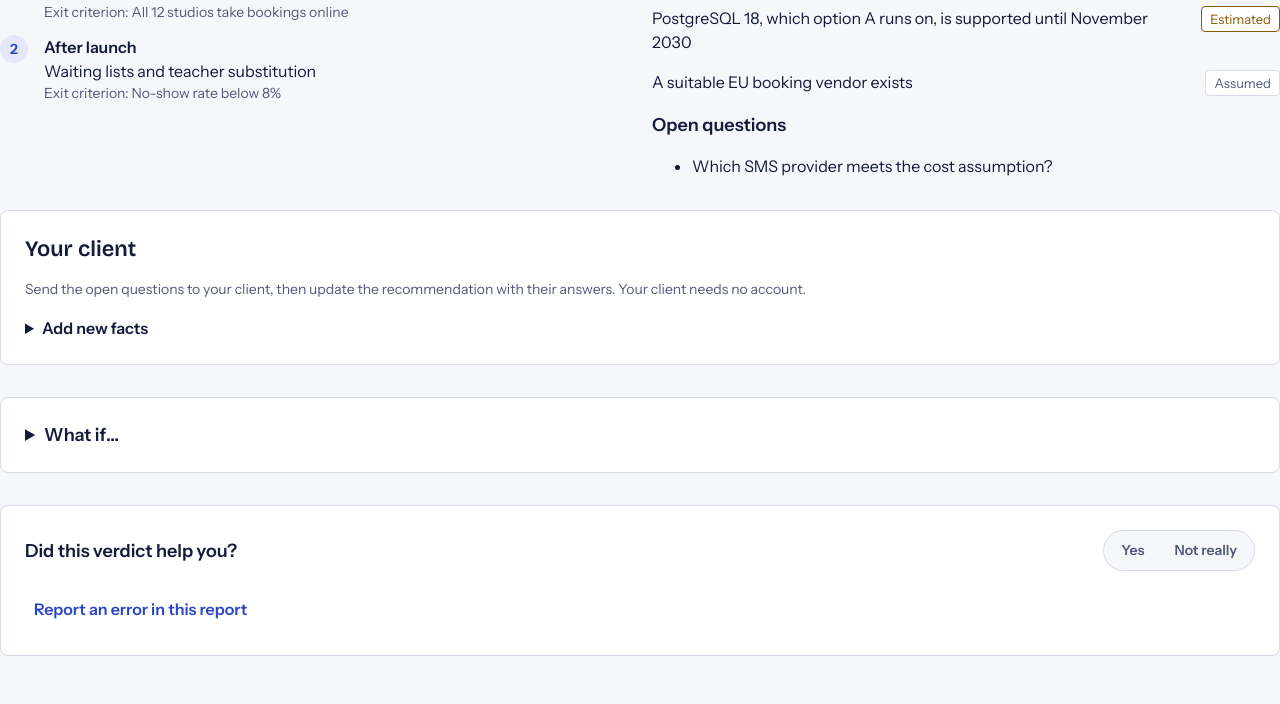
it: the feedback box › says why a rating could not be sent
(page scrolled)
Click the button "Yes".
click(1133, 551)  # box [1107, 534, 1158, 568]
(page scrolled)
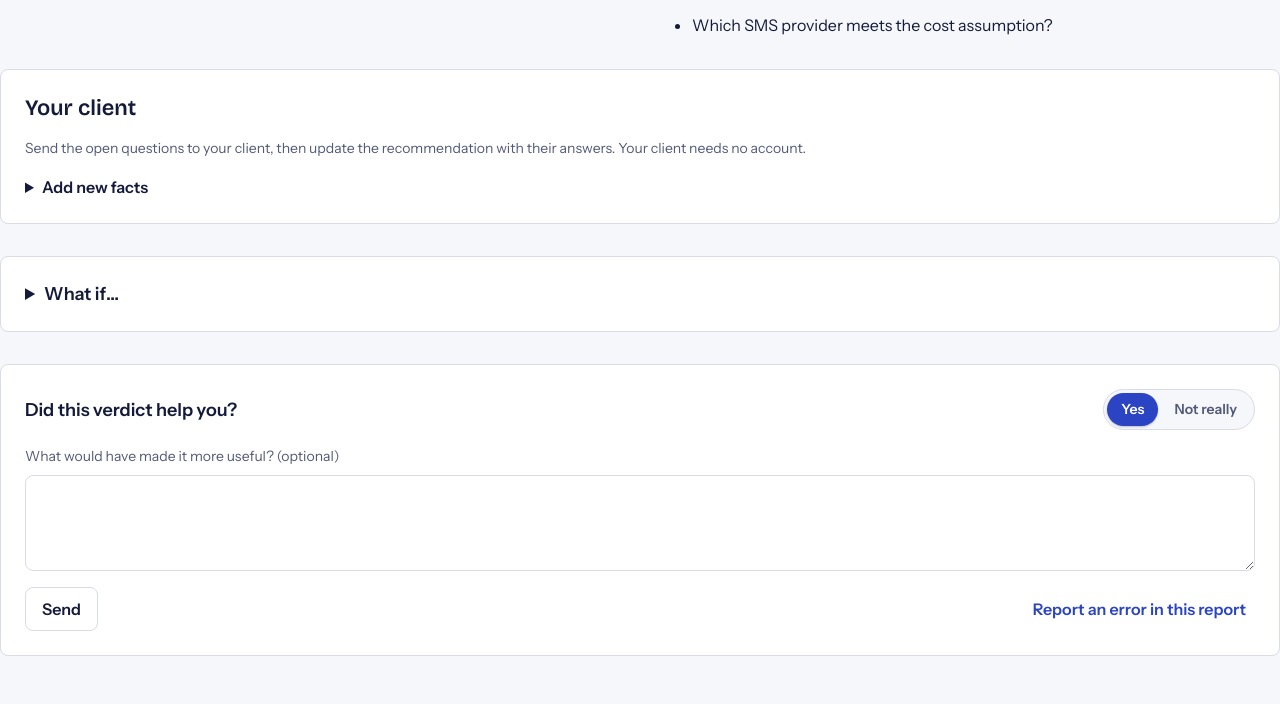
Click the button "Send".
click(62, 610)  # box [25, 588, 98, 632]
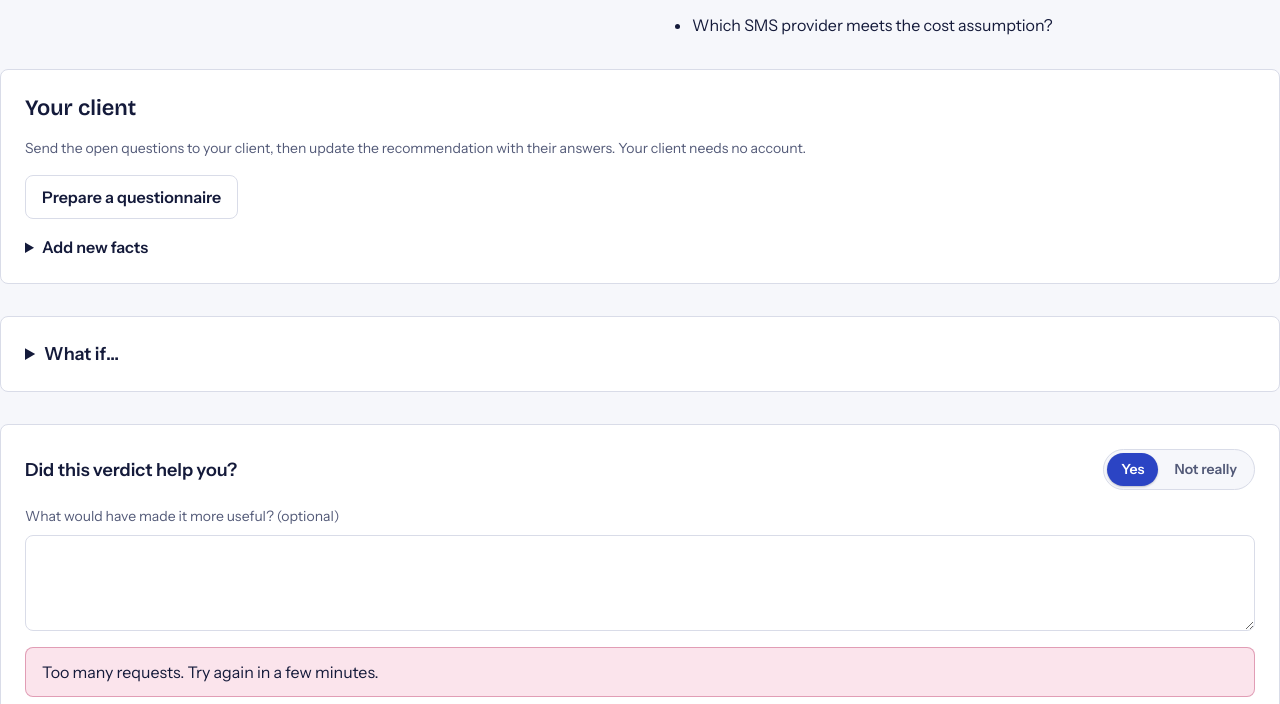
Expected: the message reads "Too many requests. Try again in a few minutes.", [42, 662, 379, 682]
